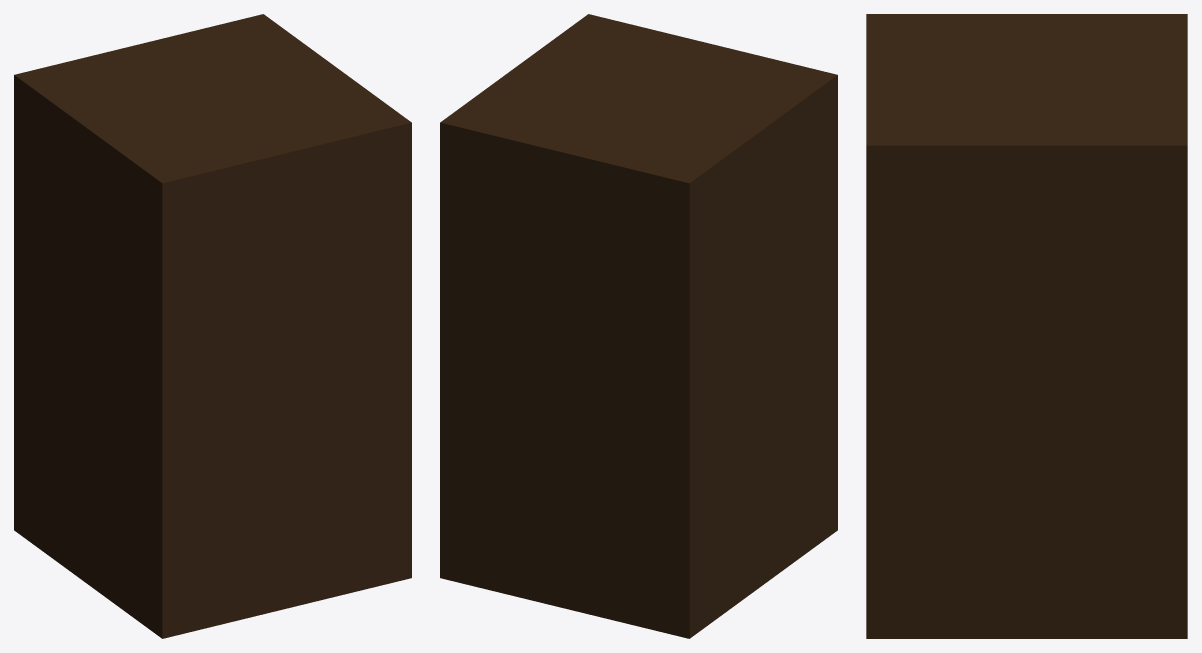
File: Counter.glb
3 views of the same model, side by side, from view 1: azimuth 30°, elevation 25°; view 2: azimuth 150°, elevation 25°; view 3: azimuth 270°, elevation 25° (orthographic). The views are drawn at different scales.
Parts seen in each view (by area): view 1: counter; view 2: counter; view 3: counter.
Boxes of the visible parts, x1=… form: counter: x1=14, y1=14, x2=411, y2=638; counter: x1=440, y1=14, x2=837, y2=638; counter: x1=866, y1=14, x2=1187, y2=638.
Bounding box in the file's own units: 3.07 × 5.37 × 3.17.
